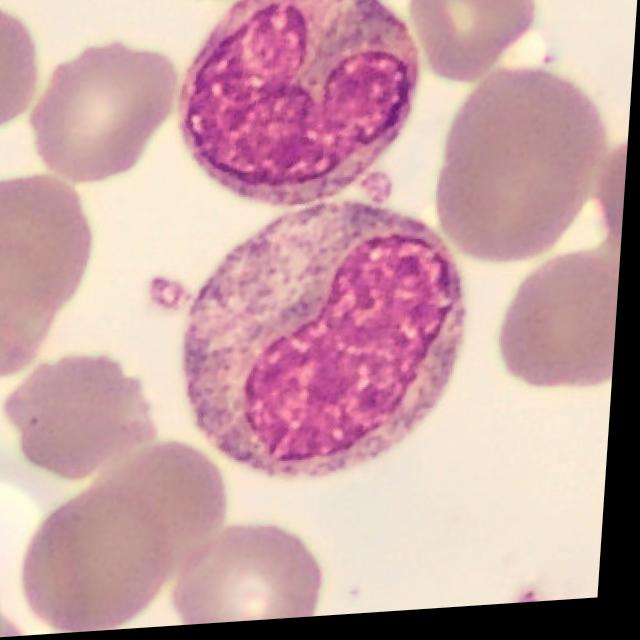Metamielocito: (187, 204, 471, 485)
Neutrofilo segmentado: (182, 0, 421, 208)
